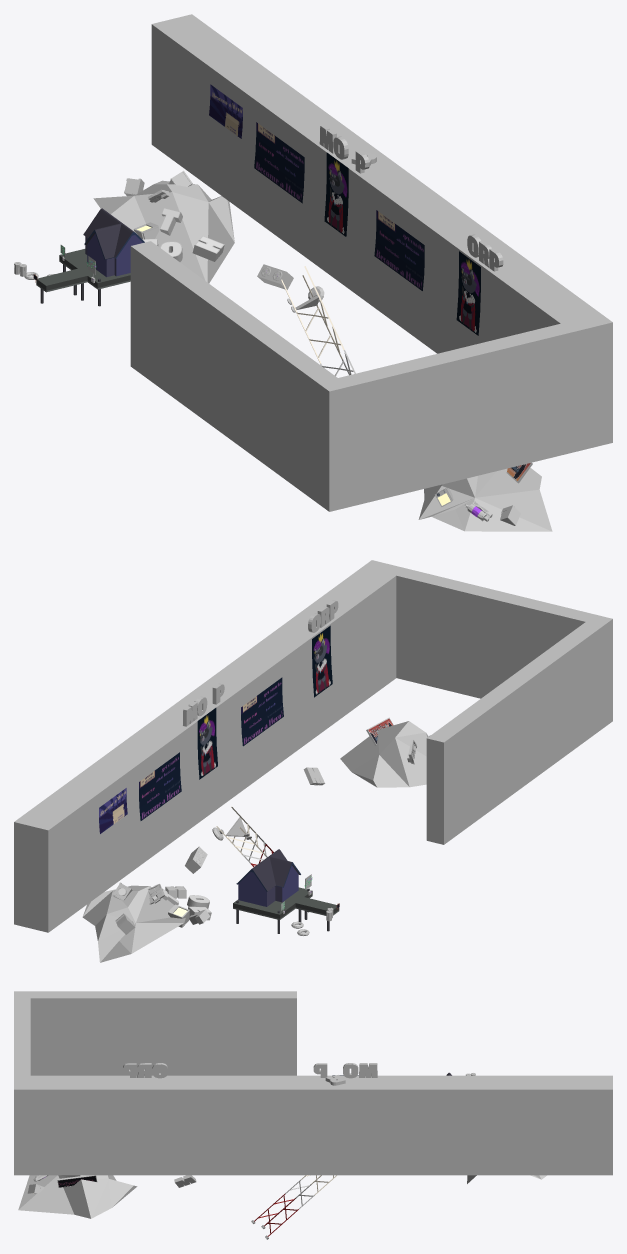
File: DBCommunityPool.fbx
3 renders of one model, top to bottom at view 1: azimuth 30°, elevation 25°; view 2: azimuth 150°, elevation 25°; view 3: azimuth 270°, elevation 25°, orthographic. The views are drawn at different scales.
Visible parts, largest first — view 1: Street.WaterBasinWalls, JunkPile.001, JunkPile.002, LittleHouse.004, Poster.031, Poster.124, DockPlatform, Poster.049, Poster.050, Poster.030, MORP, ORP; view 2: Street.WaterBasinWalls, JunkPile.001, JunkPile.002, LittleHouse.004, Poster.124, Poster.031, DockPlatform, Poster.049, Poster.050, Poster.030, MORP, ORP; view 3: Street.WaterBasinWalls, JunkPile.002, MORP, JunkPile.001, ORP.
Part boxes in pixels (bbox=[...]): Street.WaterBasinWalls: bbox=[130, 14, 612, 511]; JunkPile.001: bbox=[93, 170, 355, 376]; JunkPile.002: bbox=[418, 462, 552, 531]; LittleHouse.004: bbox=[83, 208, 144, 277]; Poster.031: bbox=[254, 122, 304, 203]; Poster.124: bbox=[374, 210, 424, 290]; DockPlatform: bbox=[36, 249, 130, 292]; Poster.049: bbox=[324, 152, 348, 236]; Poster.050: bbox=[456, 251, 480, 335]; Poster.030: bbox=[209, 84, 242, 138]; MORP: bbox=[319, 124, 376, 173]; ORP: bbox=[467, 234, 503, 271]; Street.WaterBasinWalls: bbox=[14, 560, 612, 932]; JunkPile.001: bbox=[82, 806, 273, 962]; JunkPile.002: bbox=[340, 717, 430, 787]; LittleHouse.004: bbox=[236, 849, 300, 906]; Poster.124: bbox=[241, 677, 283, 746]; Poster.031: bbox=[139, 752, 181, 820]; DockPlatform: bbox=[233, 887, 339, 919]; Poster.049: bbox=[197, 708, 217, 779]; Poster.050: bbox=[312, 625, 332, 697]; Poster.030: bbox=[99, 788, 127, 833]; MORP: bbox=[183, 683, 224, 726]; ORP: bbox=[308, 600, 338, 632]; Street.WaterBasinWalls: bbox=[14, 991, 612, 1175]; JunkPile.002: bbox=[18, 1175, 137, 1218]; MORP: bbox=[313, 1063, 377, 1085]; JunkPile.001: bbox=[251, 1175, 546, 1239]; ORP: bbox=[123, 1063, 167, 1078].
Size of the model in its own units: 6902 by 5967 by 17748.
